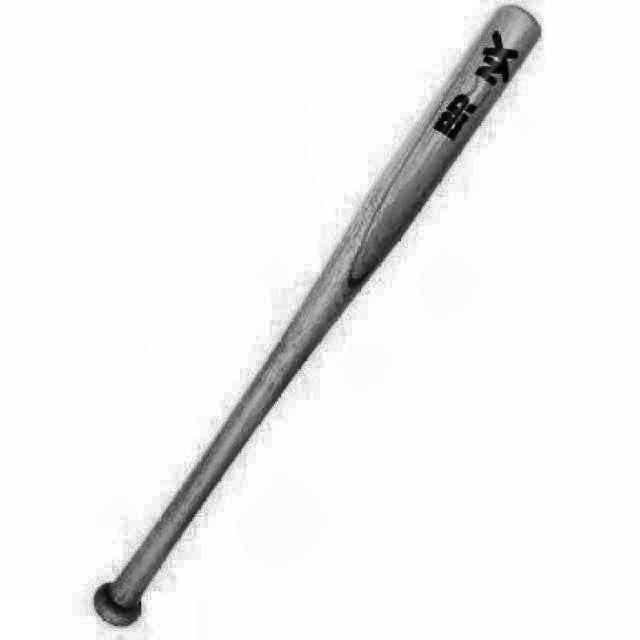tongkat pemukul: (86, 0, 558, 630)
